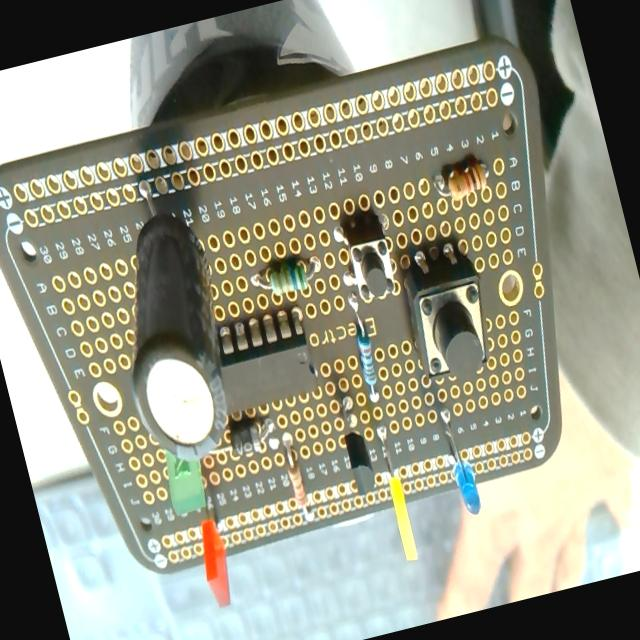Electrolytic capacitor: (83, 168, 256, 470)
IC: (210, 310, 322, 416)
diode: (227, 417, 264, 458)
led: (370, 418, 422, 562), (436, 402, 486, 520), (192, 515, 240, 610), (160, 444, 212, 518)
resistor: (341, 285, 387, 404), (250, 253, 324, 302), (282, 448, 314, 524), (440, 158, 490, 202)
switch: (393, 243, 502, 388), (332, 210, 402, 306)
transistor: (334, 400, 378, 494)
